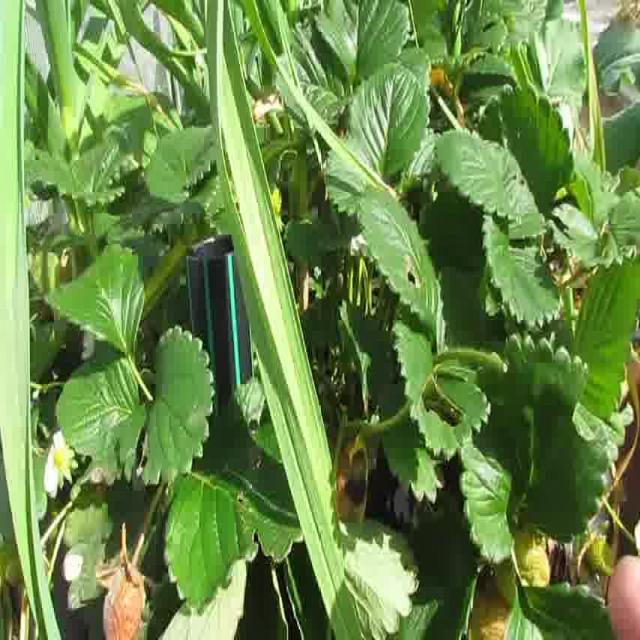Fruta sana: (494, 530, 550, 612), (468, 572, 518, 640), (583, 536, 616, 576), (270, 188, 282, 217), (53, 445, 67, 469)
Moho gris: (102, 560, 147, 638)
